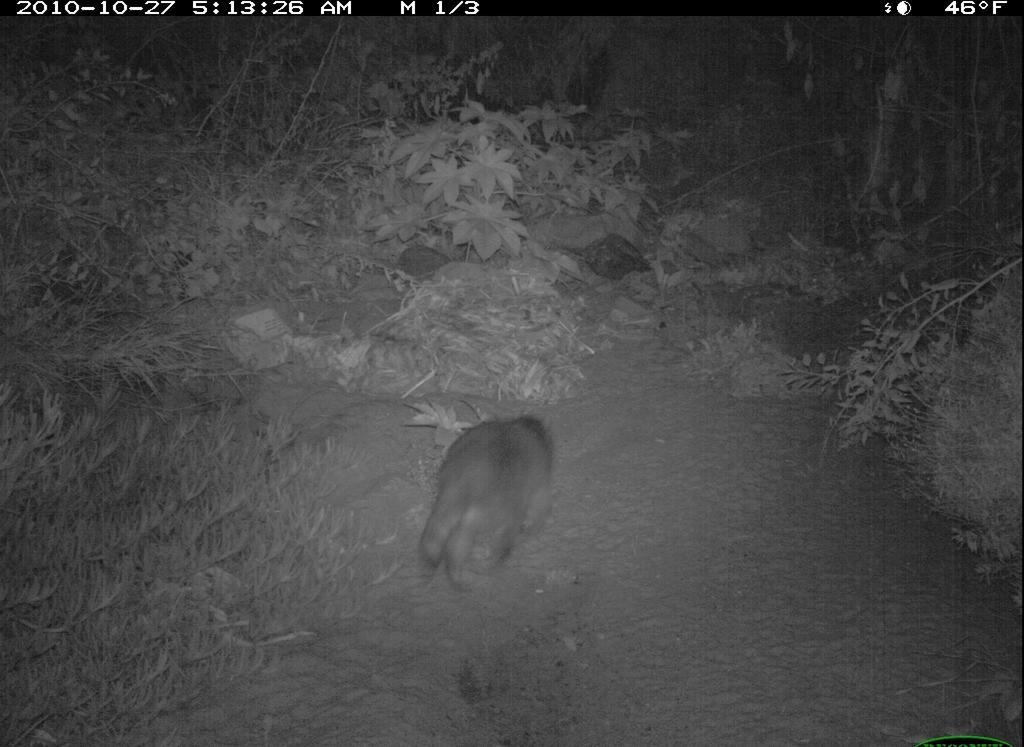raccoon: (397, 390, 585, 611)
